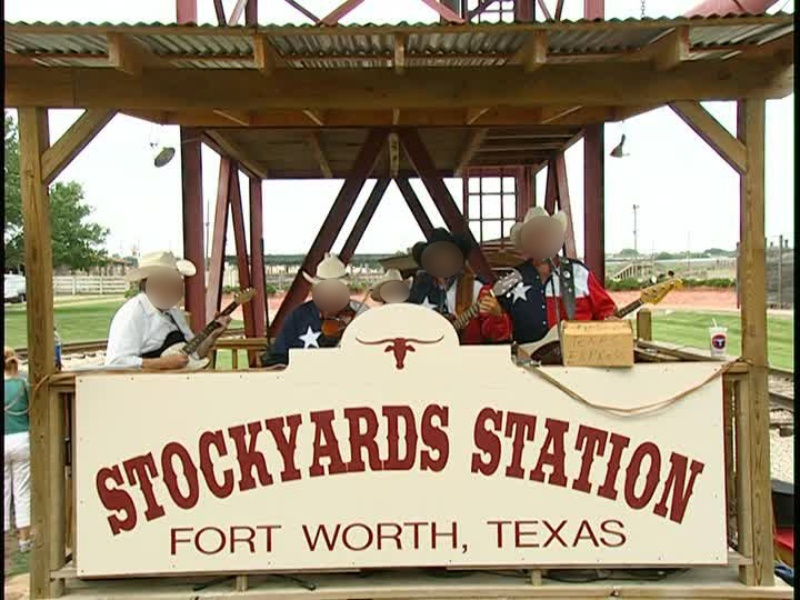text: (81, 395, 96, 538), (97, 395, 112, 538), (113, 395, 128, 538), (129, 395, 144, 538), (145, 395, 160, 538), (161, 395, 176, 538), (177, 395, 192, 538), (193, 395, 208, 538), (209, 395, 224, 538), (225, 395, 240, 538), (241, 395, 256, 538), (257, 395, 272, 538), (273, 395, 288, 538), (289, 395, 304, 538), (305, 395, 320, 538), (321, 395, 336, 538), (337, 395, 352, 538), (353, 395, 368, 538), (369, 395, 384, 538), (385, 395, 400, 538), (401, 395, 416, 538), (417, 395, 432, 538), (433, 395, 448, 538), (497, 396, 512, 527), (513, 396, 528, 527), (529, 396, 544, 527), (545, 396, 560, 527), (561, 396, 576, 527), (577, 396, 592, 527), (593, 396, 608, 527), (609, 396, 624, 527), (625, 396, 640, 527), (641, 396, 656, 527), (657, 396, 672, 527), (673, 396, 688, 527), (689, 396, 704, 527), (482, 396, 496, 527), (305, 519, 320, 554), (321, 519, 336, 554), (337, 519, 352, 554), (353, 519, 368, 554), (369, 519, 384, 554), (385, 519, 400, 554), (401, 519, 416, 554), (417, 519, 432, 554), (433, 519, 448, 554), (449, 519, 464, 554), (705, 396, 709, 527), (177, 523, 192, 556), (193, 523, 208, 556), (209, 523, 224, 556), (225, 523, 240, 556), (241, 523, 256, 556), (257, 523, 272, 556), (497, 519, 512, 549), (513, 519, 528, 549), (529, 519, 544, 549), (545, 519, 560, 549), (561, 519, 576, 549), (577, 519, 592, 549), (593, 519, 608, 549), (609, 519, 624, 549), (449, 395, 452, 538), (273, 523, 285, 556), (485, 519, 496, 549), (577, 334, 592, 351), (593, 334, 608, 351), (465, 519, 471, 554), (299, 519, 304, 554), (171, 523, 176, 556), (609, 334, 618, 351), (568, 334, 576, 351), (625, 519, 627, 549), (715, 337, 720, 347), (721, 337, 724, 347)
